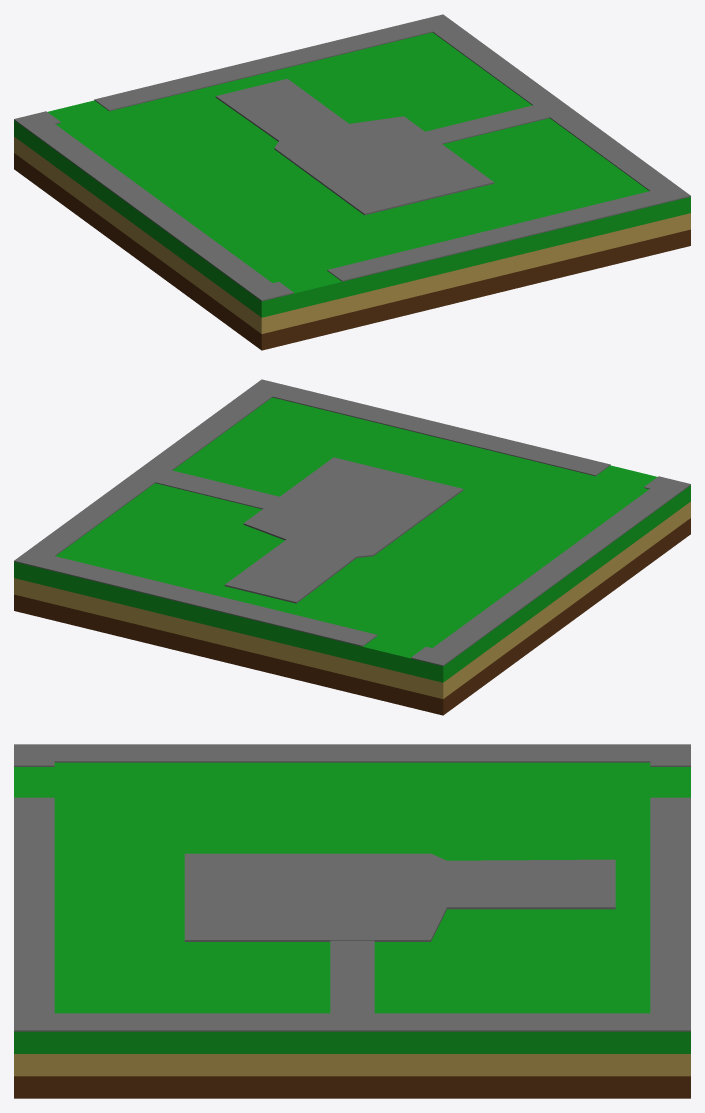
The model's file is Usaquen-Station-HitBox.glb.
The picture shows the model from 3 angles, top to bottom: view 1: azimuth 30°, elevation 25°; view 2: azimuth 150°, elevation 25°; view 3: azimuth 270°, elevation 25°; orthographic projection. The views are drawn at different scales.
Visible parts, largest first — view 1: Plane.014, Plane.015, Cube.610; view 2: Plane.014, Plane.015, Cube.610; view 3: Plane.014, Plane.015, Cube.610.
Boxes of the visible parts, x1=… form: Plane.014: x1=14, y1=32, x2=690, y2=350; Plane.015: x1=14, y1=14, x2=690, y2=301; Cube.610: x1=215, y1=78, x2=494, y2=215; Plane.014: x1=14, y1=397, x2=690, y2=715; Plane.015: x1=14, y1=379, x2=690, y2=666; Cube.610: x1=224, y1=457, x2=463, y2=603; Plane.014: x1=14, y1=762, x2=690, y2=1098; Plane.015: x1=14, y1=744, x2=690, y2=1031; Cube.610: x1=184, y1=853, x2=615, y2=941.
Size of what is drawn, in the model's own units: 33.35 by 3.77 by 33.35.
